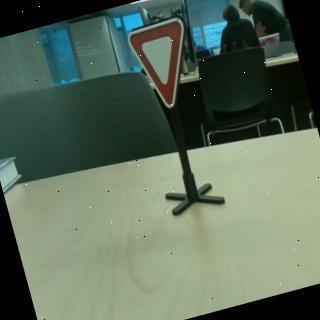sign_yield: (126, 16, 206, 116)
